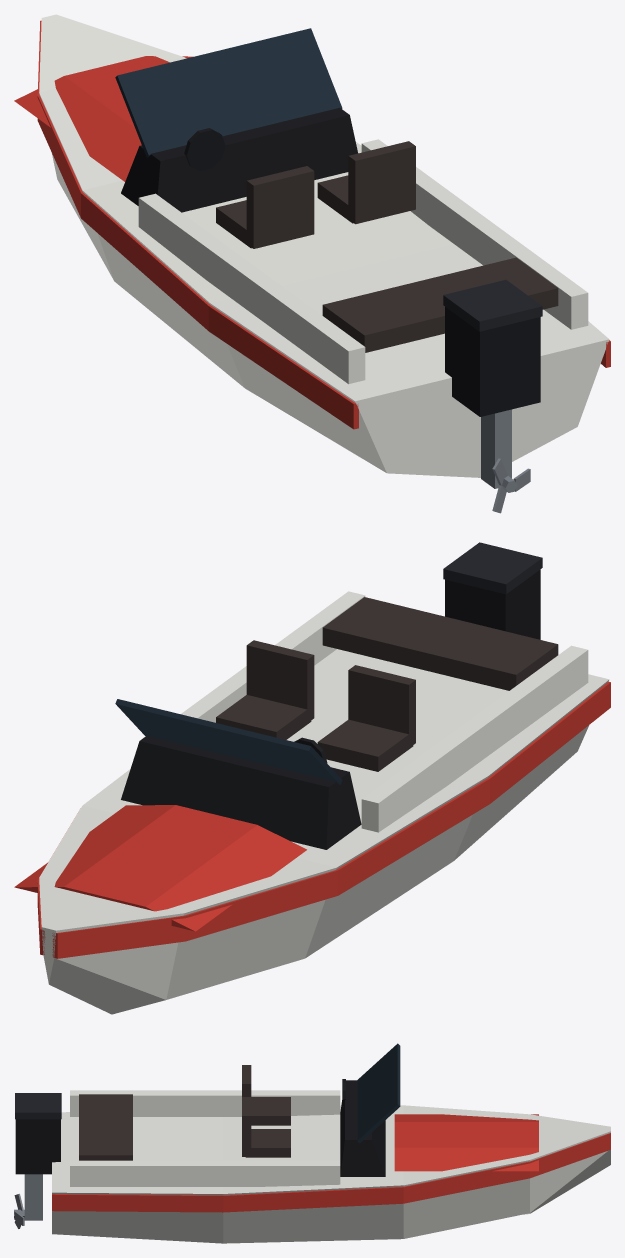
The model's file is speedboat.glb.
The picture shows the model from 3 angles, top to bottom: view 1: azimuth 30°, elevation 25°; view 2: azimuth 150°, elevation 25°; view 3: azimuth 270°, elevation 25°; orthographic projection. The views are drawn at different scales.
Parts seen in each view (by area): view 1: speedboat_Body, speedboat_Prop; view 2: speedboat_Body; view 3: speedboat_Body.
Boxes of the visible parts, left/top/right/bottom form: speedboat_Body: left=14, top=14, right=610, bottom=488; speedboat_Prop: left=492, top=458, right=530, bottom=513; speedboat_Body: left=14, top=542, right=610, bottom=1014; speedboat_Body: left=15, top=1043, right=610, bottom=1243.
Bounding box in the file's own units: 2.32 × 1.93 × 6.62.
